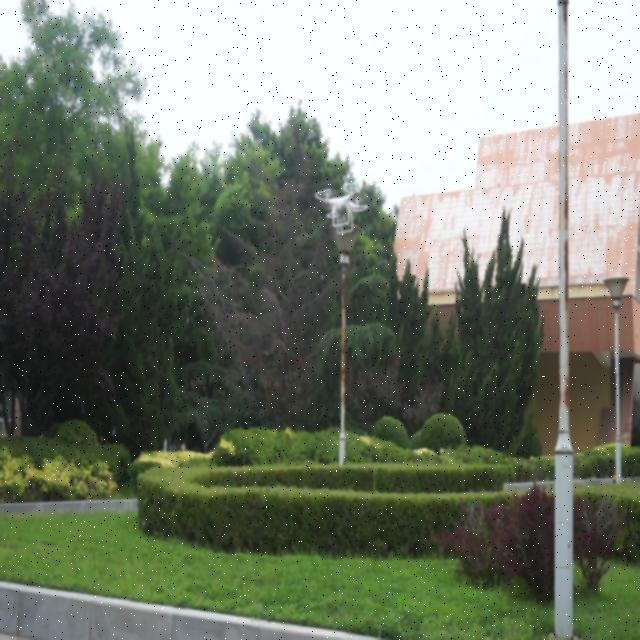UAV: (314, 182, 368, 235)
